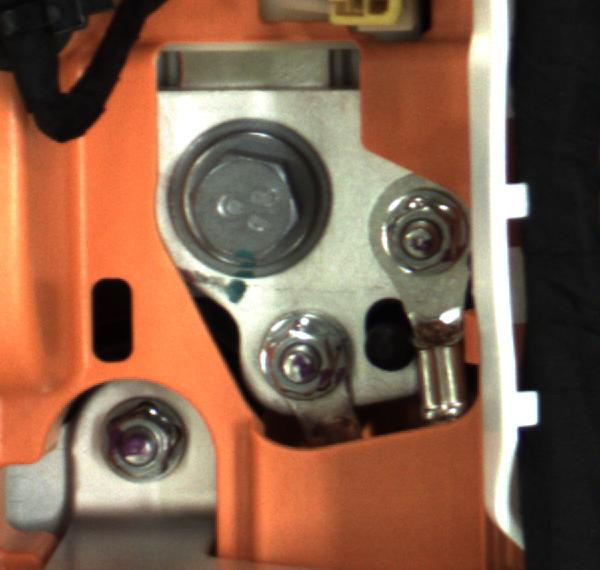nut_b: (149, 110, 337, 283)
screw_s: (92, 393, 188, 492), (259, 311, 350, 415), (378, 198, 475, 279)
